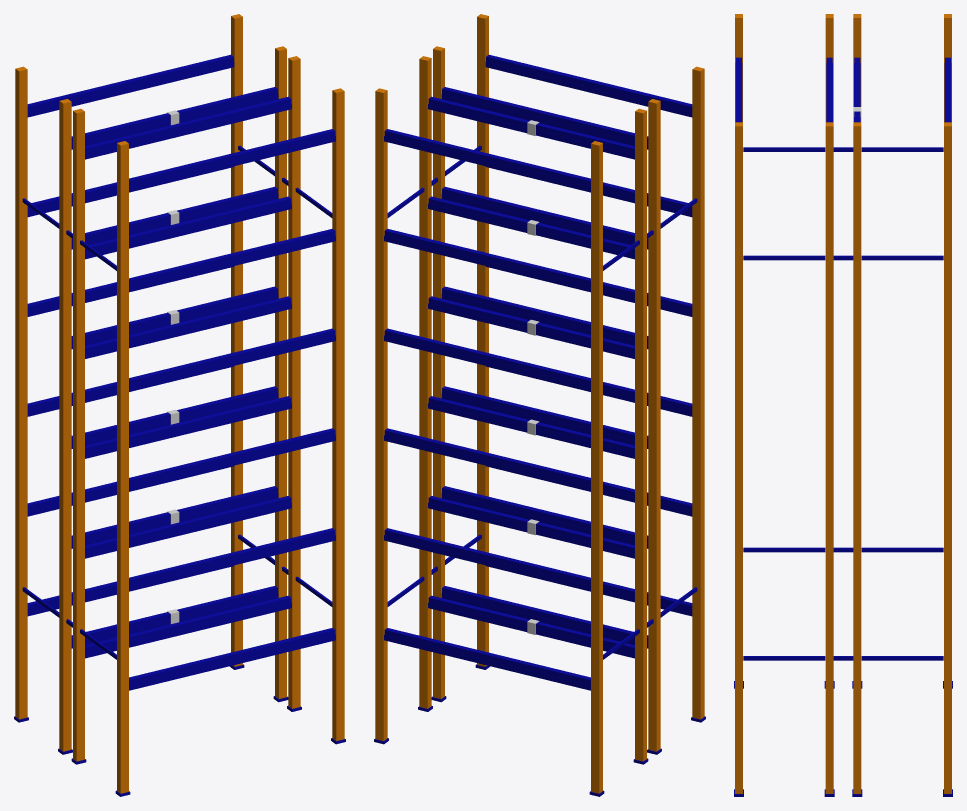
The model's file is high-duty-C27-6-pair.glb.
3 views of the same model, side by side, from view 1: azimuth 30°, elevation 25°; view 2: azimuth 150°, elevation 25°; view 3: azimuth 270°, elevation 25° (orthographic). The views are drawn at different scales.
Parts seen in each view (by area): view 1: group1_geometry_4, group1_geometry_0, group2_geometry_2, group2_geometry_0, group2_geometry_4, group2_geometry_6, group1_geometry_2, group1_geometry_6, group2_geometry_12, group2_geometry_16, group2_geometry_8, group2_geometry_20 (+34 smaller); view 2: group2_geometry_0, group2_geometry_4, group1_geometry_6, group1_geometry_4, group1_geometry_0, group1_geometry_2, group2_geometry_6, group2_geometry_2, group1_geometry_15, group1_geometry_20, group1_geometry_10, group1_geometry_25 (+34 smaller); view 3: group1_geometry_2, group2_geometry_6, group1_geometry_6, group2_geometry_2, group2_geometry_4, group1_geometry_0, group1_geometry_38, group1_geometry_41, group2_geometry_32, group2_geometry_35, group1_geometry_4, group2_geometry_0 (+6 smaller).
Part boxes in pixels (box(x1,y1,x2,y2)): group1_geometry_4: box(15, 66, 27, 719); group1_geometry_0: box(59, 99, 71, 751); group2_geometry_2: box(332, 88, 344, 740); group2_geometry_0: box(117, 141, 128, 793); group2_geometry_4: box(73, 108, 84, 761); group2_geometry_6: box(288, 56, 300, 708); group1_geometry_2: box(275, 46, 286, 698); group1_geometry_6: box(231, 14, 242, 666); group2_geometry_12: box(129, 528, 335, 585); group2_geometry_16: box(129, 428, 335, 485); group2_geometry_8: box(129, 628, 335, 685); group2_geometry_20: box(129, 328, 335, 385); group2_geometry_0: box(692, 66, 704, 719); group2_geometry_4: box(648, 99, 660, 751); group1_geometry_6: box(375, 88, 387, 740); group1_geometry_4: box(591, 141, 602, 793); group1_geometry_0: box(635, 108, 646, 761); group1_geometry_2: box(419, 56, 431, 708); group2_geometry_6: box(433, 46, 444, 698); group2_geometry_2: box(477, 14, 488, 666); group1_geometry_15: box(384, 528, 590, 585); group1_geometry_20: box(384, 428, 590, 485); group1_geometry_10: box(384, 628, 590, 685); group1_geometry_25: box(384, 328, 590, 385); group1_geometry_2: box(853, 122, 861, 793); group2_geometry_6: box(825, 122, 833, 793); group1_geometry_6: box(944, 122, 951, 793); group2_geometry_2: box(735, 122, 742, 793); group2_geometry_4: box(825, 14, 833, 122); group1_geometry_0: box(853, 14, 861, 106); group1_geometry_38: box(861, 547, 943, 552); group1_geometry_41: box(861, 255, 943, 260); group2_geometry_32: box(743, 547, 825, 552); group2_geometry_35: box(743, 255, 825, 260); group1_geometry_4: box(944, 14, 951, 122); group2_geometry_0: box(735, 14, 742, 122).
Bounding box in the file's own units: 2720 × 7500 × 2220.
